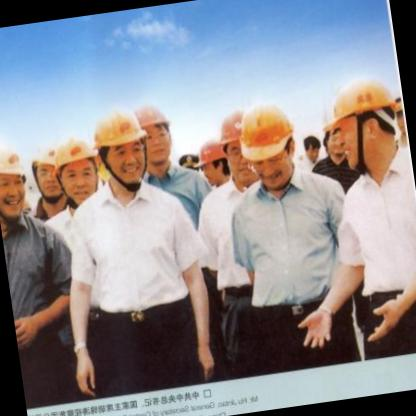helmet: (318, 64, 406, 182), (234, 92, 306, 190), (90, 101, 153, 188), (47, 129, 104, 209), (128, 94, 182, 178), (0, 138, 35, 227), (26, 138, 67, 208), (218, 116, 251, 181), (193, 139, 231, 193)
